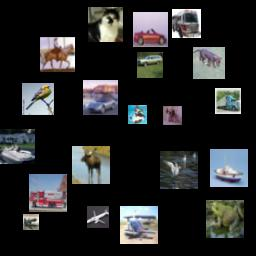airplane: (120, 206, 158, 244), (87, 206, 109, 228), (23, 214, 39, 230)
automobile: (83, 80, 118, 115), (133, 12, 168, 47), (137, 52, 163, 78)
bird: (160, 151, 198, 189), (22, 83, 54, 115)
cat: (88, 7, 123, 42)
deer: (72, 146, 110, 184)
dog: (193, 47, 225, 79), (128, 105, 147, 124), (163, 106, 182, 125)
frog: (206, 200, 244, 238)
ship: (210, 149, 248, 187), (0, 129, 35, 164)
truck: (29, 174, 67, 212), (172, 9, 201, 38), (215, 88, 241, 114)
